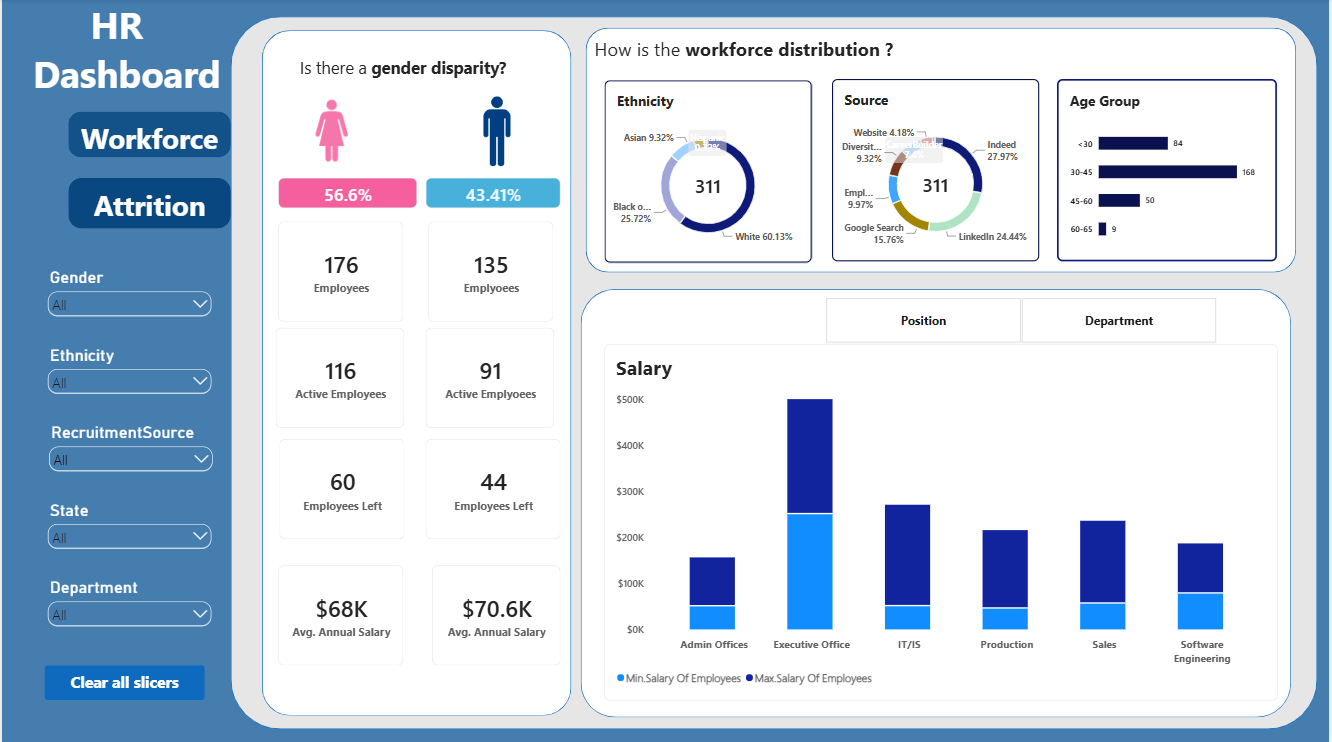

What the dashboard file says about the page in this screenshot:
{"tool":"powerbi","page":{"name":"Workforce","canvas":[1920,1080],"ordinal":0},"visuals":[{"type":"textbox","box":[0,0,331.6,164.1],"z":0},{"type":"shape","box":[375.7,53.9,163.6,122.2],"z":1000},{"type":"shape","box":[1186.5,240.9,57.5,46.7],"z":2000},{"type":"shape","box":[330.8,25.2,1573,1031.9],"z":3000},{"type":"actionButton","title":"Workforce","box":[95.3,163.6,235.5,66.5],"z":4000},{"type":"actionButton","box":[95.3,258.9,235.5,73.7],"z":5000},{"type":"slicer","fields":{"Values":["HRDataset_v14.Sex"]},"box":[62,388.6,246.2,112.2],"z":5001},{"type":"slicer","fields":{"Values":["HRDataset_v14.RaceDesc"]},"box":[62,500.8,246.2,112.2],"z":5002},{"type":"slicer","fields":{"Values":["HRDataset_v14.RecruitmentSource"]},"box":[63.6,613,246.2,112.2],"z":5003},{"type":"slicer","fields":{"Values":["HRDataset_v14.Department"]},"box":[62,837.5,246.2,112.2],"z":5004},{"type":"slicer","fields":{"Values":["HRDataset_v14.State"]},"box":[62,725.3,246.2,112.2],"z":5005},{"type":"shape","box":[375.7,44.9,447.6,992.4],"z":5006},{"type":"shape","box":[844.9,41.3,1028.3,354.2],"z":5007},{"type":"shape","box":[837.8,420.7,1028.3,620.2],"z":5008},{"type":"image","box":[433.1,138.9,89.9,102.5],"z":5009},{"type":"image","box":[671.3,140.8,90.2,101.1],"z":5010},{"type":"cardVisual","fields":{"Data":["Measure Table.Female emp."]},"box":[399.1,258.9,201.3,44.9],"z":5011},{"type":"cardVisual","fields":{"Data":["Measure Table.male emp."]},"box":[613,258.9,196,44.9],"z":5012},{"type":"actionButton","box":[61.1,965.4,231.9,50.3],"z":5013},{"type":"textbox","box":[399.1,82.7,361.3,55.7],"z":5014},{"type":"cardVisual","fields":{"Data":["Measure Table.Total Female emp."]},"box":[399.1,321.8,181.6,145.6],"z":5015},{"type":"cardVisual","fields":{"Data":["Measure Table.Total Male Emplyoees"]},"box":[616.6,321.8,181.6,145.6],"z":5016},{"type":"cardVisual","fields":{"Data":["Measure Table.Active Female Emp."]},"box":[395.5,476.4,187,145.6],"z":5017},{"type":"cardVisual","fields":{"Data":["Measure Table.Emp. left(female)"]},"box":[400.9,636.4,181.6,145.6],"z":5018},{"type":"cardVisual","fields":{"Data":["Measure Table.Avg. Annual Salary (Female)"]},"box":[399.1,819.8,181.6,145.6],"z":5019},{"type":"cardVisual","fields":{"Data":["Measure Table.Active Male Emp."]},"box":[613,476.4,187,145.6],"z":5020},{"type":"cardVisual","fields":{"Data":["Measure Table.Avg. Annual Salary (male)"]},"box":[622,819.8,187,145.6],"z":5021},{"type":"cardVisual","fields":{"Data":["Measure Table.Emp. left (male)"]},"box":[613,636.4,196,145.6],"z":5022},{"type":"textbox","box":[857.5,53.9,988.8,61.1],"z":5023},{"type":"donutChart","title":"Ethnicity","fields":{"Category":["HRDataset_v14.RaceDesc"],"Y":["Measure Table.Total Employees"]},"box":[871.9,116.9,300.2,264.3],"z":5024},{"type":"donutChart","title":"Source","fields":{"Category":["HRDataset_v14.RecruitmentSource"],"Y":["Measure Table.Total Employees"]},"box":[1200.9,115.1,300.2,264.3],"z":5025},{"type":"clusteredBarChart","title":"Age Group","fields":{"Category":["HRDataset_v14.Emp. Age Group"],"Y":["Measure Table.Total Employees"]},"box":[1528.1,115.1,318.2,264.3],"z":5026},{"type":"slicer","fields":{"Values":["Category.Category"]},"box":[1173,430.7,604,68.3],"z":5027},{"type":"columnChart","title":"Salary","fields":{"Category":["HRDataset_v14.Position","HRDataset_v14.Department"],"Y":["Measure Table.Min.Salary Of Employees","Measure Table.Max.Salary Of Employees"]},"box":[871.9,499.8,974.4,516],"z":5028}]}

Visuals, with their boxes in screenshot pixels (x1, y1, x2, y2), scaled from the page's 1920x1080 canvas onto the 1332x742 screenshot:
textbox: 0 0 230 113
shape: 261 37 374 121
shape: 823 166 863 198
shape: 229 17 1321 726
"Workforce" actionButton: 66 112 229 158
actionButton: 66 178 229 229
slicer - HRDataset_v14.Sex: 43 267 214 344
slicer - HRDataset_v14.RaceDesc: 43 344 214 421
slicer - HRDataset_v14.RecruitmentSource: 44 421 215 498
slicer - HRDataset_v14.Department: 43 575 214 652
slicer - HRDataset_v14.State: 43 498 214 575
shape: 261 31 571 713
shape: 586 28 1300 272
shape: 581 289 1295 715
image: 300 95 363 166
image: 466 97 528 166
cardVisual - Measure Table.Female emp.: 277 178 417 209
cardVisual - Measure Table.male emp.: 425 178 561 209
actionButton: 42 663 203 698
textbox: 277 57 528 95
cardVisual - Measure Table.Total Female emp.: 277 221 403 321
cardVisual - Measure Table.Total Male Emplyoees: 428 221 554 321
cardVisual - Measure Table.Active Female Emp.: 274 327 404 427
cardVisual - Measure Table.Emp. left(female): 278 437 404 537
cardVisual - Measure Table.Avg. Annual Salary (Female): 277 563 403 663
cardVisual - Measure Table.Active Male Emp.: 425 327 555 427
cardVisual - Measure Table.Avg. Annual Salary (male): 432 563 561 663
cardVisual - Measure Table.Emp. left (male): 425 437 561 537
textbox: 595 37 1281 79
"Ethnicity" donutChart: 605 80 813 262
"Source" donutChart: 833 79 1041 261
"Age Group" clusteredBarChart: 1060 79 1281 261
slicer - Category.Category: 814 296 1233 343
"Salary" columnChart: 605 343 1281 698
